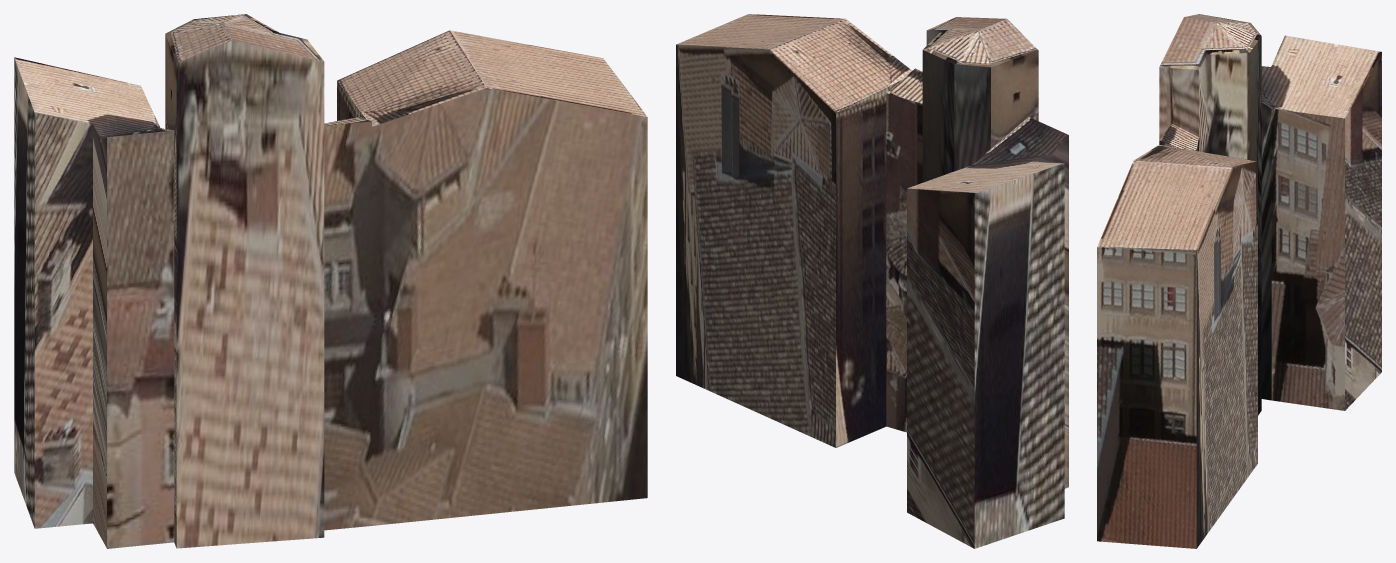
3 renders of one model, left to right at view 1: azimuth 30°, elevation 25°; view 2: azimuth 150°, elevation 25°; view 3: azimuth 270°, elevation 25°, orthographic. The views are drawn at different scales.
Visible parts, largest first — view 1: Z_UP; view 2: Z_UP; view 3: Z_UP.
Part boxes in pixels (x1=…): Z_UP: x1=14, y1=14, x2=647, y2=548; Z_UP: x1=676, y1=14, x2=1068, y2=548; Z_UP: x1=1097, y1=14, x2=1381, y2=548.
Bounding box in the file's own units: 24.24 × 22.82 × 15.15.
2 materials, 1 textured.
